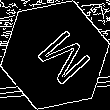M_SW: (22, 21, 88, 89)
